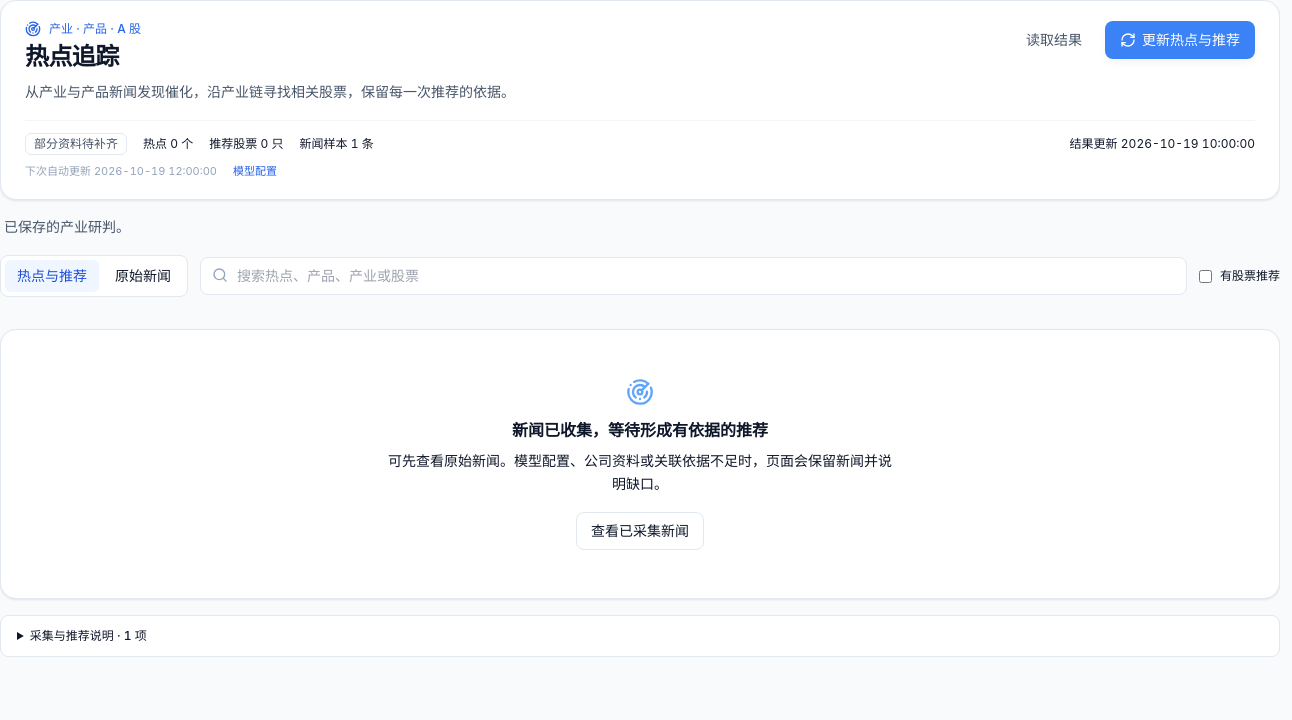
Scenario: HotspotPage snapshot and evidence workflow › keeps collected news accessible when company evidence is insufficient for recommendations
Click the button "查看已采集新闻": (640, 530) top-left (576, 512), bottom-right (704, 550)
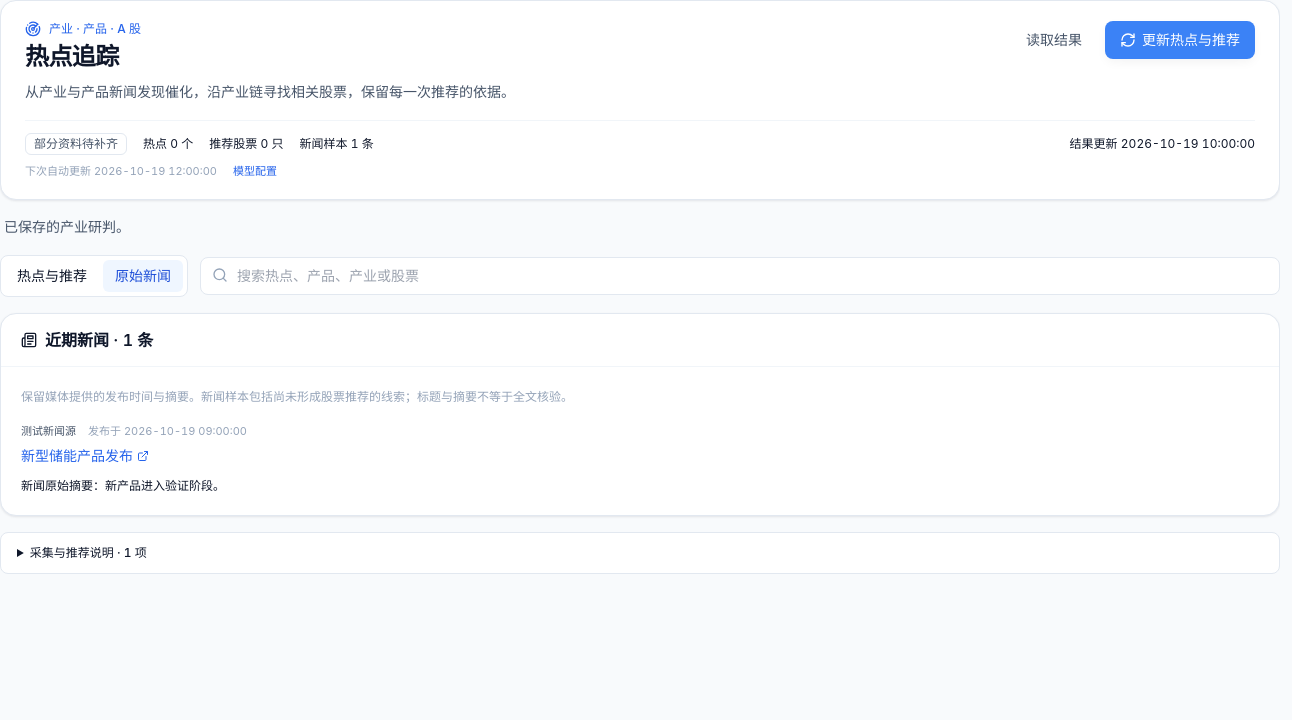
Expected: the text "新型储能产品发布" is shown, top-left (21, 445), bottom-right (149, 468)
